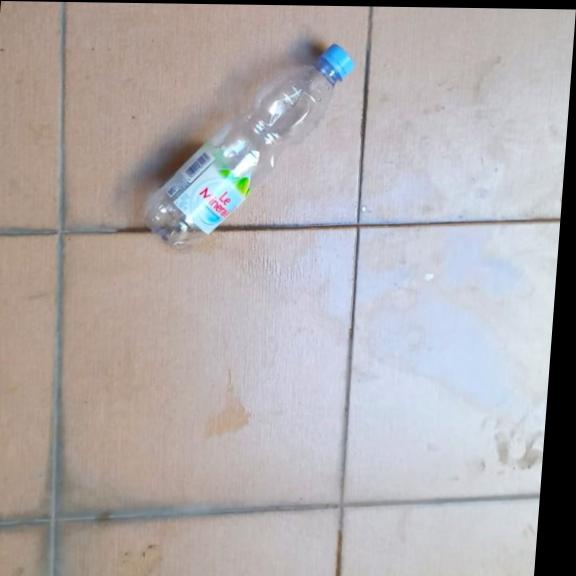Plastik: (139, 40, 355, 255)
